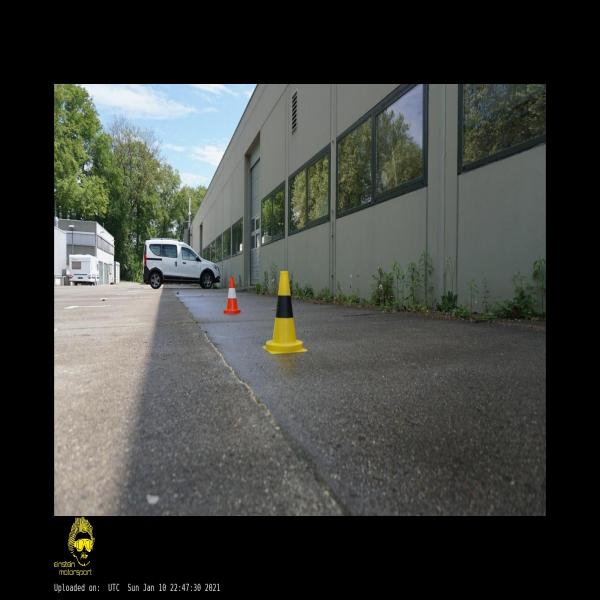orange_cone: (223, 277, 242, 314)
yellow_cone: (262, 272, 307, 354)
